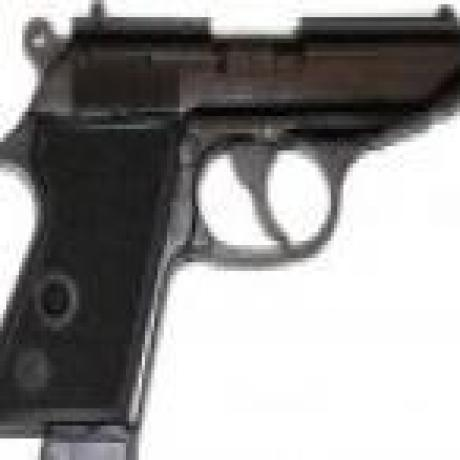weapon: (2, 0, 460, 460)
